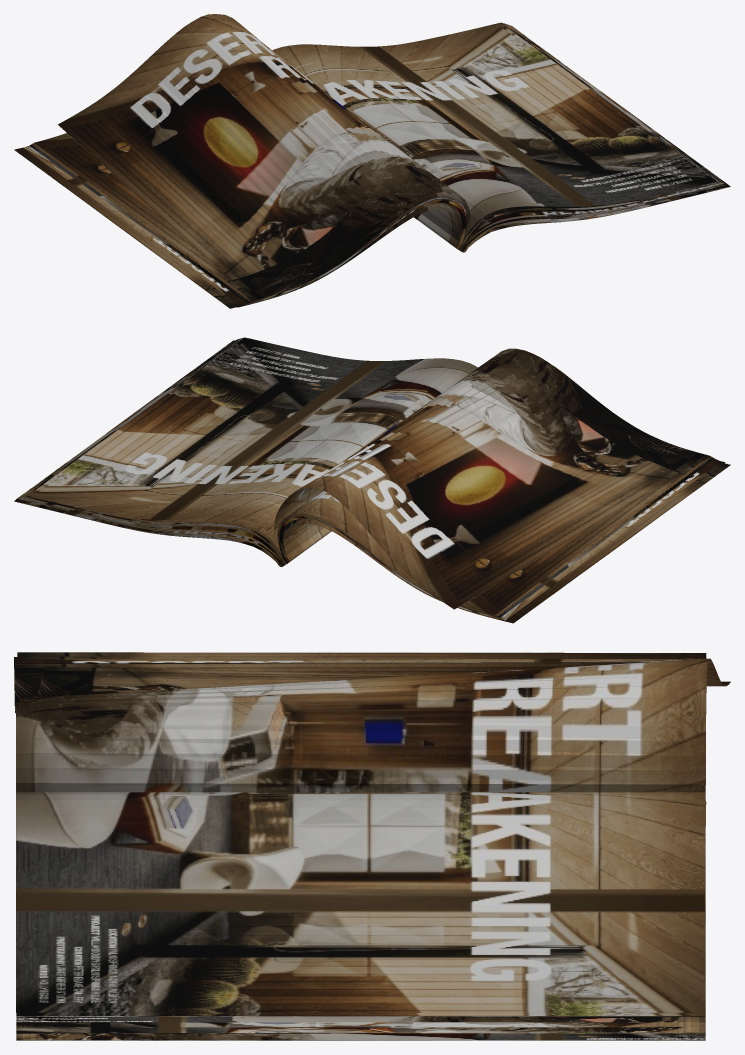
Rendered from magazine-5.obj.
3 views of the same model, one above another, from view 1: azimuth 30°, elevation 25°; view 2: azimuth 150°, elevation 25°; view 3: azimuth 270°, elevation 25° (orthographic). The views are drawn at different scales.
Visible parts, largest first — view 1: Lifestyle_053; view 2: Lifestyle_053; view 3: Lifestyle_053.
Boxes of the visible parts, x1=… form: Lifestyle_053: x1=14, y1=14, x2=730, y2=308; Lifestyle_053: x1=14, y1=337, x2=730, y2=623; Lifestyle_053: x1=14, y1=652, x2=730, y2=1040.
Bounding box in the file's own units: 39.57 × 6.68 × 30.9.
Materials: 1 (1 with a texture image).
